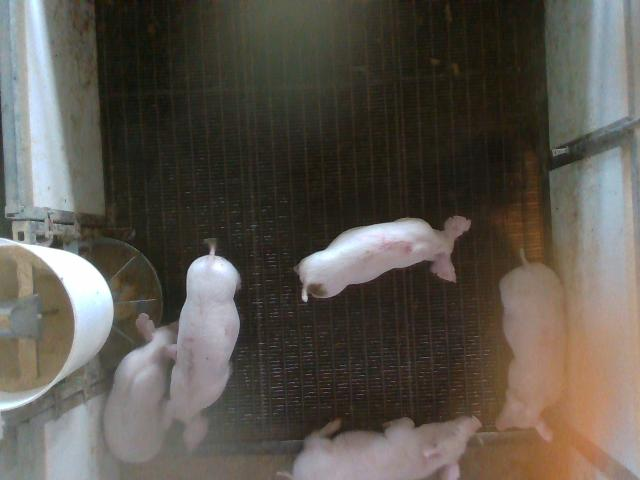pig-3: (164, 239, 240, 451)
pig-4: (496, 255, 564, 441)
pig-5: (295, 216, 471, 301)
